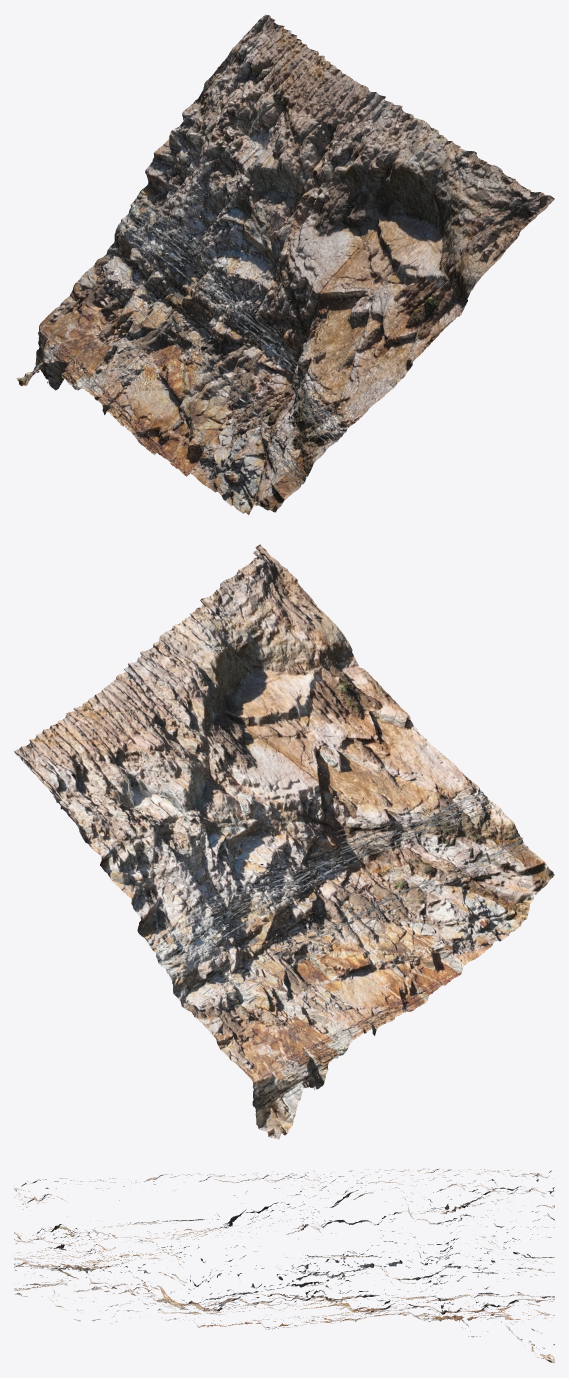
3 views of the same model, one above another, from view 1: azimuth 30°, elevation 25°; view 2: azimuth 150°, elevation 25°; view 3: azimuth 270°, elevation 25° (orthographic). The views are drawn at different scales.
Size of the model in its own units: 9.42 by 9.83 by 15.26.
3 materials, 3 textured.
